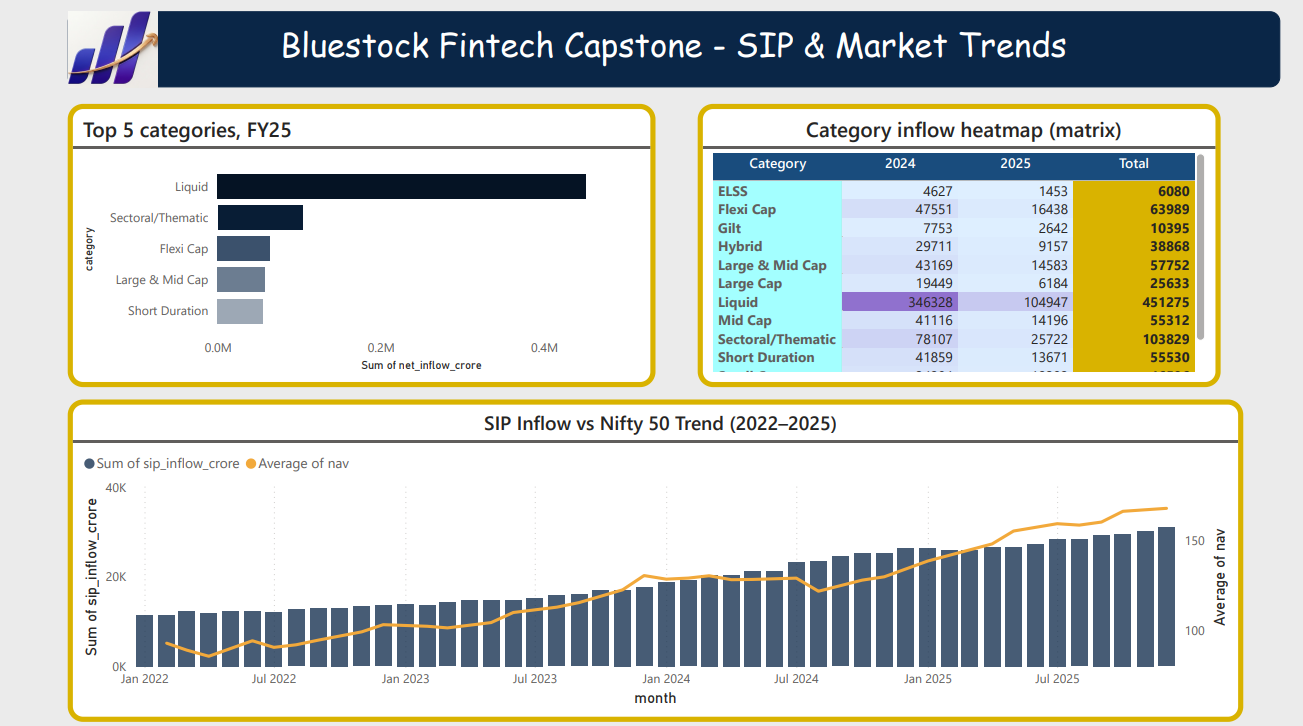

This screenshot's page, from the dashboard's own definition file:
{"tool":"powerbi","page":{"name":"SIP & Market Trends","canvas":[1280,720],"ordinal":3},"visuals":[{"type":"textbox","box":[68.6,15.7,1178.6,74.3],"z":0},{"type":"lineClusteredColumnComboChart","title":"SIP Inflow vs Nifty 50 Trend (2022–2025)","fields":{"Y":["Sum(04_monthly_sip_inflows.sip_inflow_crore)"],"Y2":["Avg(nav_history_clean.nav)"],"Category":["04_monthly_sip_inflows.month"]},"box":[68.6,392.9,1142.9,312.9],"z":1},{"type":"pivotTable","title":"Category inflow heatmap (matrix)","fields":{"Rows":["05_category_inflows.category"],"Values":["Sum(05_category_inflows.net_inflow_crore)"],"Columns":["05_category_inflows.month.Variation.Date Hierarchy.Year","05_category_inflows.month.Variation.Date Hierarchy.Quarter","05_category_inflows.month.Variation.Date Hierarchy.Month","05_category_inflows.month.Variation.Date Hierarchy.Day"]},"box":[681.4,105.7,507.1,275.7],"z":2},{"type":"clusteredBarChart","title":"Top 5 categories, FY25","fields":{"Category":["05_category_inflows.category"],"Y":["Sum(05_category_inflows.net_inflow_crore)"]},"box":[68.6,105.7,571.4,275.7],"z":3},{"type":"image","box":[68.6,15.7,88.6,74.3],"z":4}]}

Visuals, with their boxes in screenshot pixels (x1, y1, x2, y2), scaled from the page's 1280x720 canvas onto the 1303x726 screenshot:
textbox: [70,16,1270,91]
"SIP Inflow vs Nifty 50 Trend (2022–2025)" lineClusteredColumnComboChart: [70,396,1233,712]
"Category inflow heatmap (matrix)" pivotTable: [694,107,1210,385]
"Top 5 categories, FY25" clusteredBarChart: [70,107,652,385]
image: [70,16,160,91]
